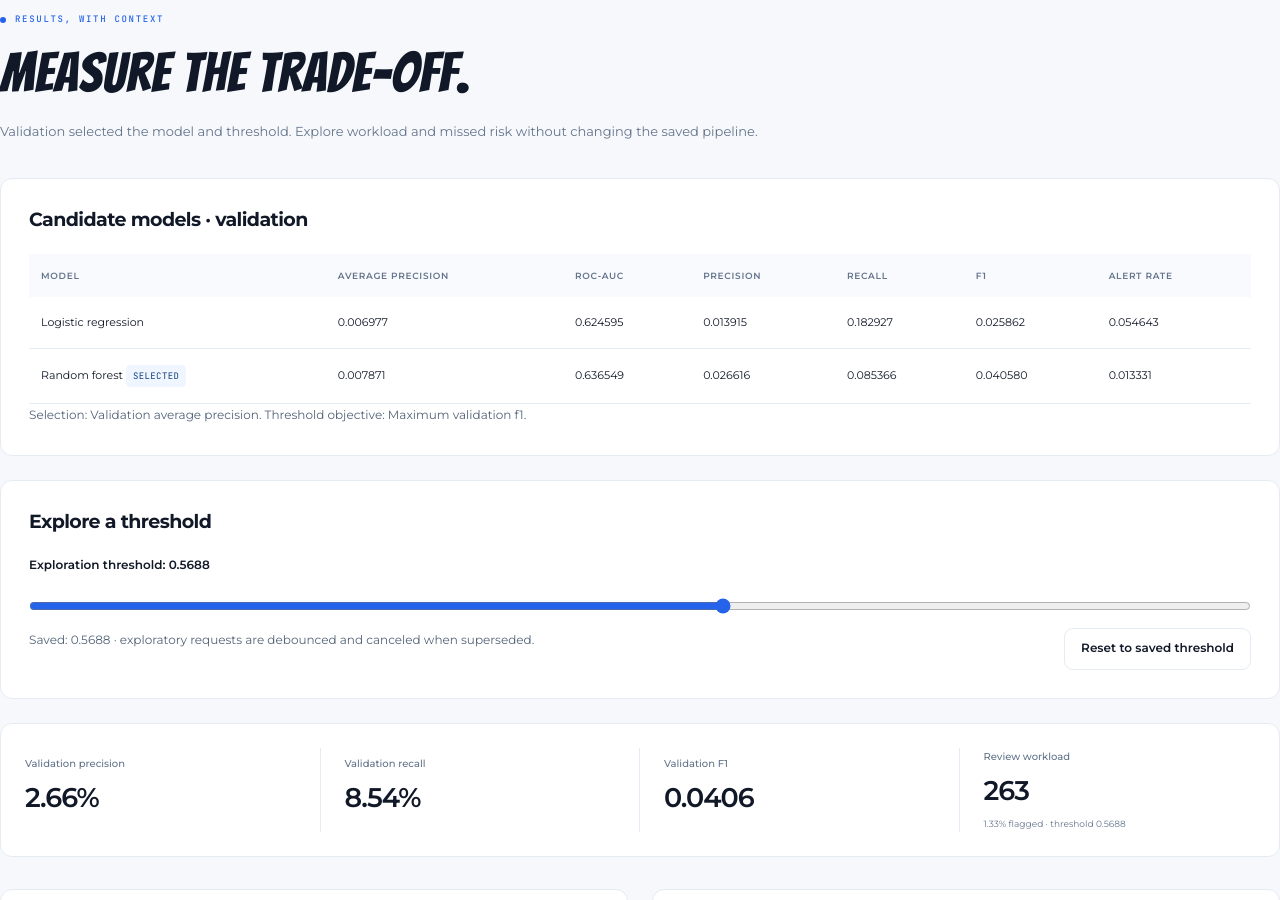
Test: guided architecture and evaluation › debounces slider and aborts obsolete threshold requests
Later steps or results of the test are not shown.
Set the slider to ".2" at (640, 606), box [29, 584, 1251, 628]
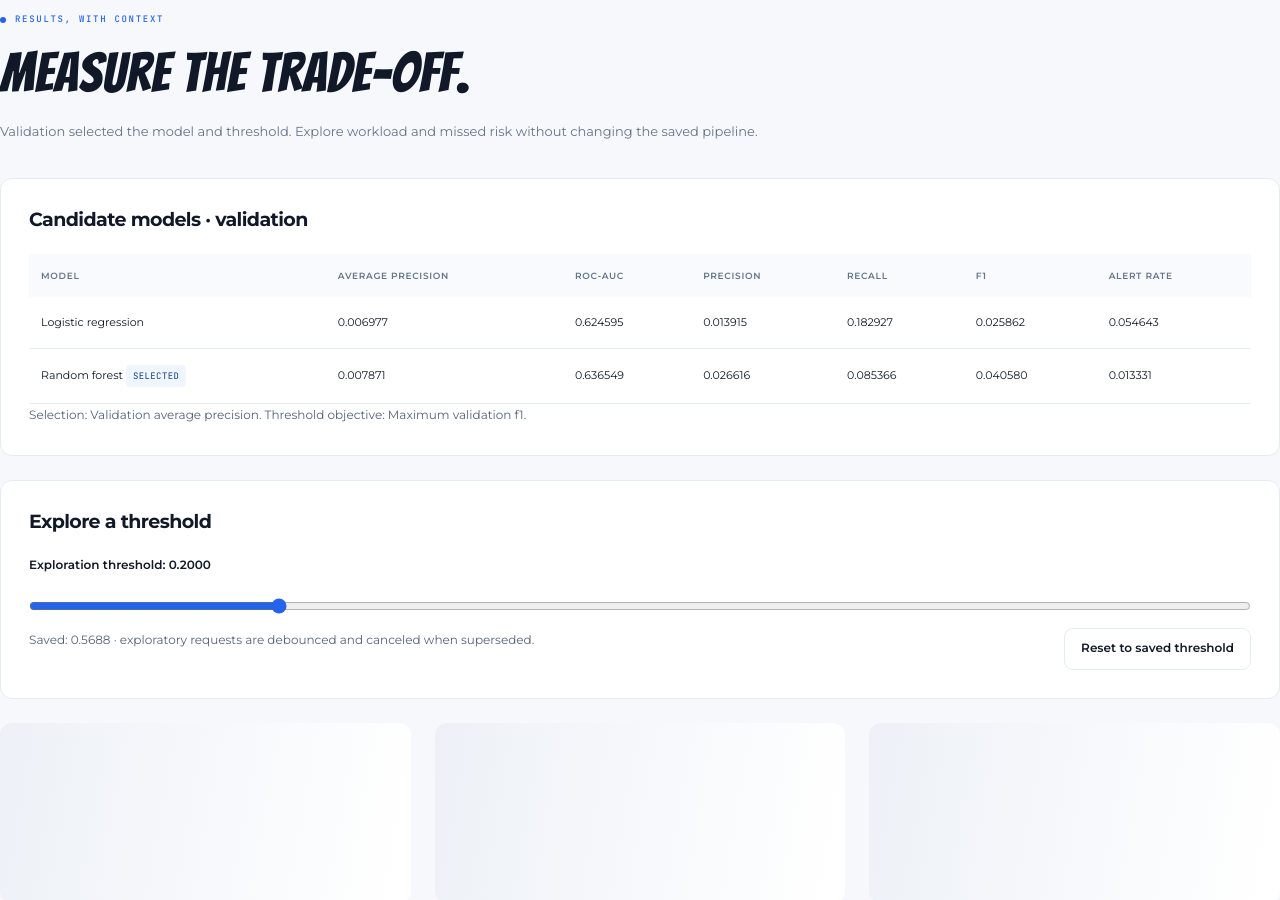
Set the slider to ".8" at (640, 606), box [29, 584, 1251, 628]
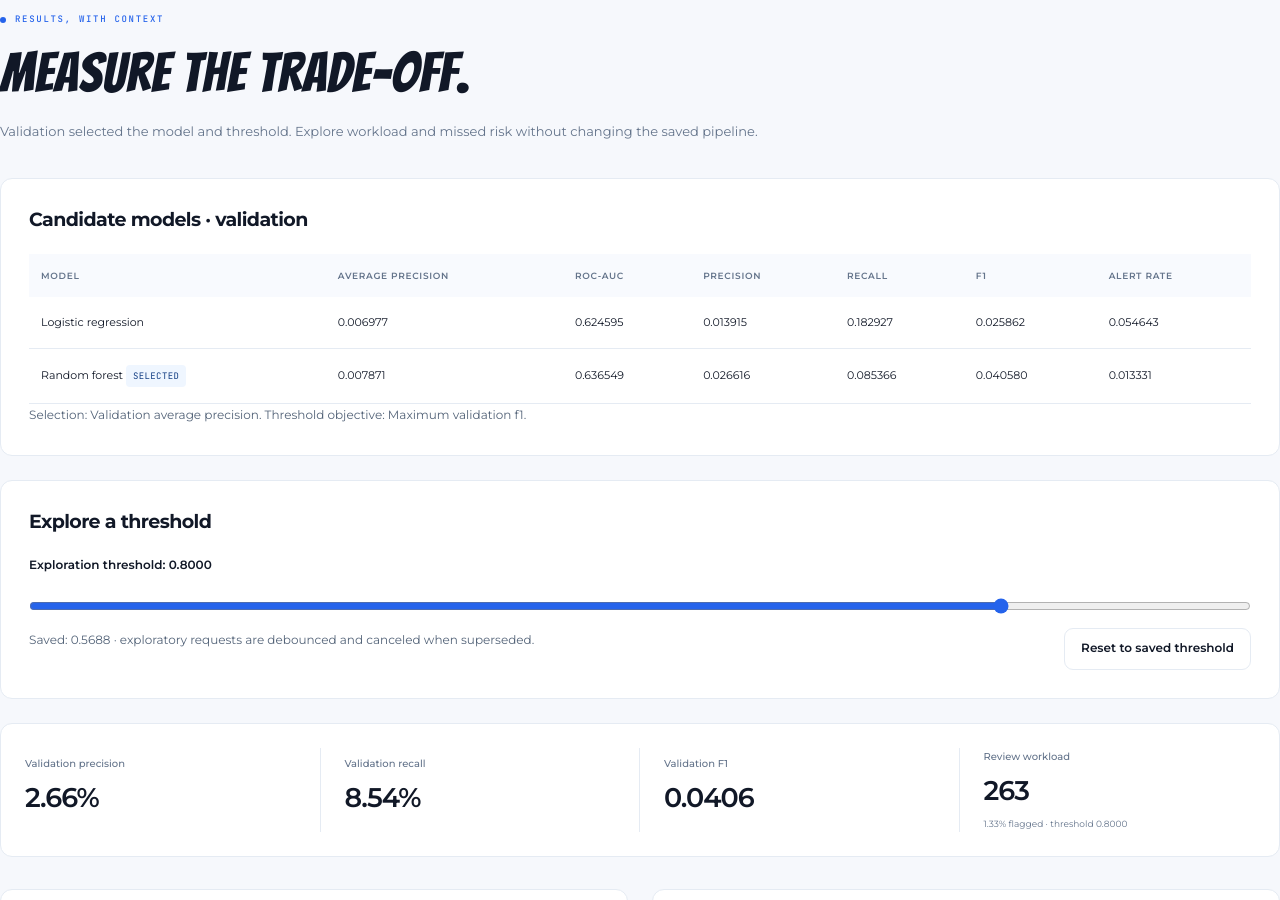
expect the slider holds "0.8": met, box [29, 584, 1251, 628]
